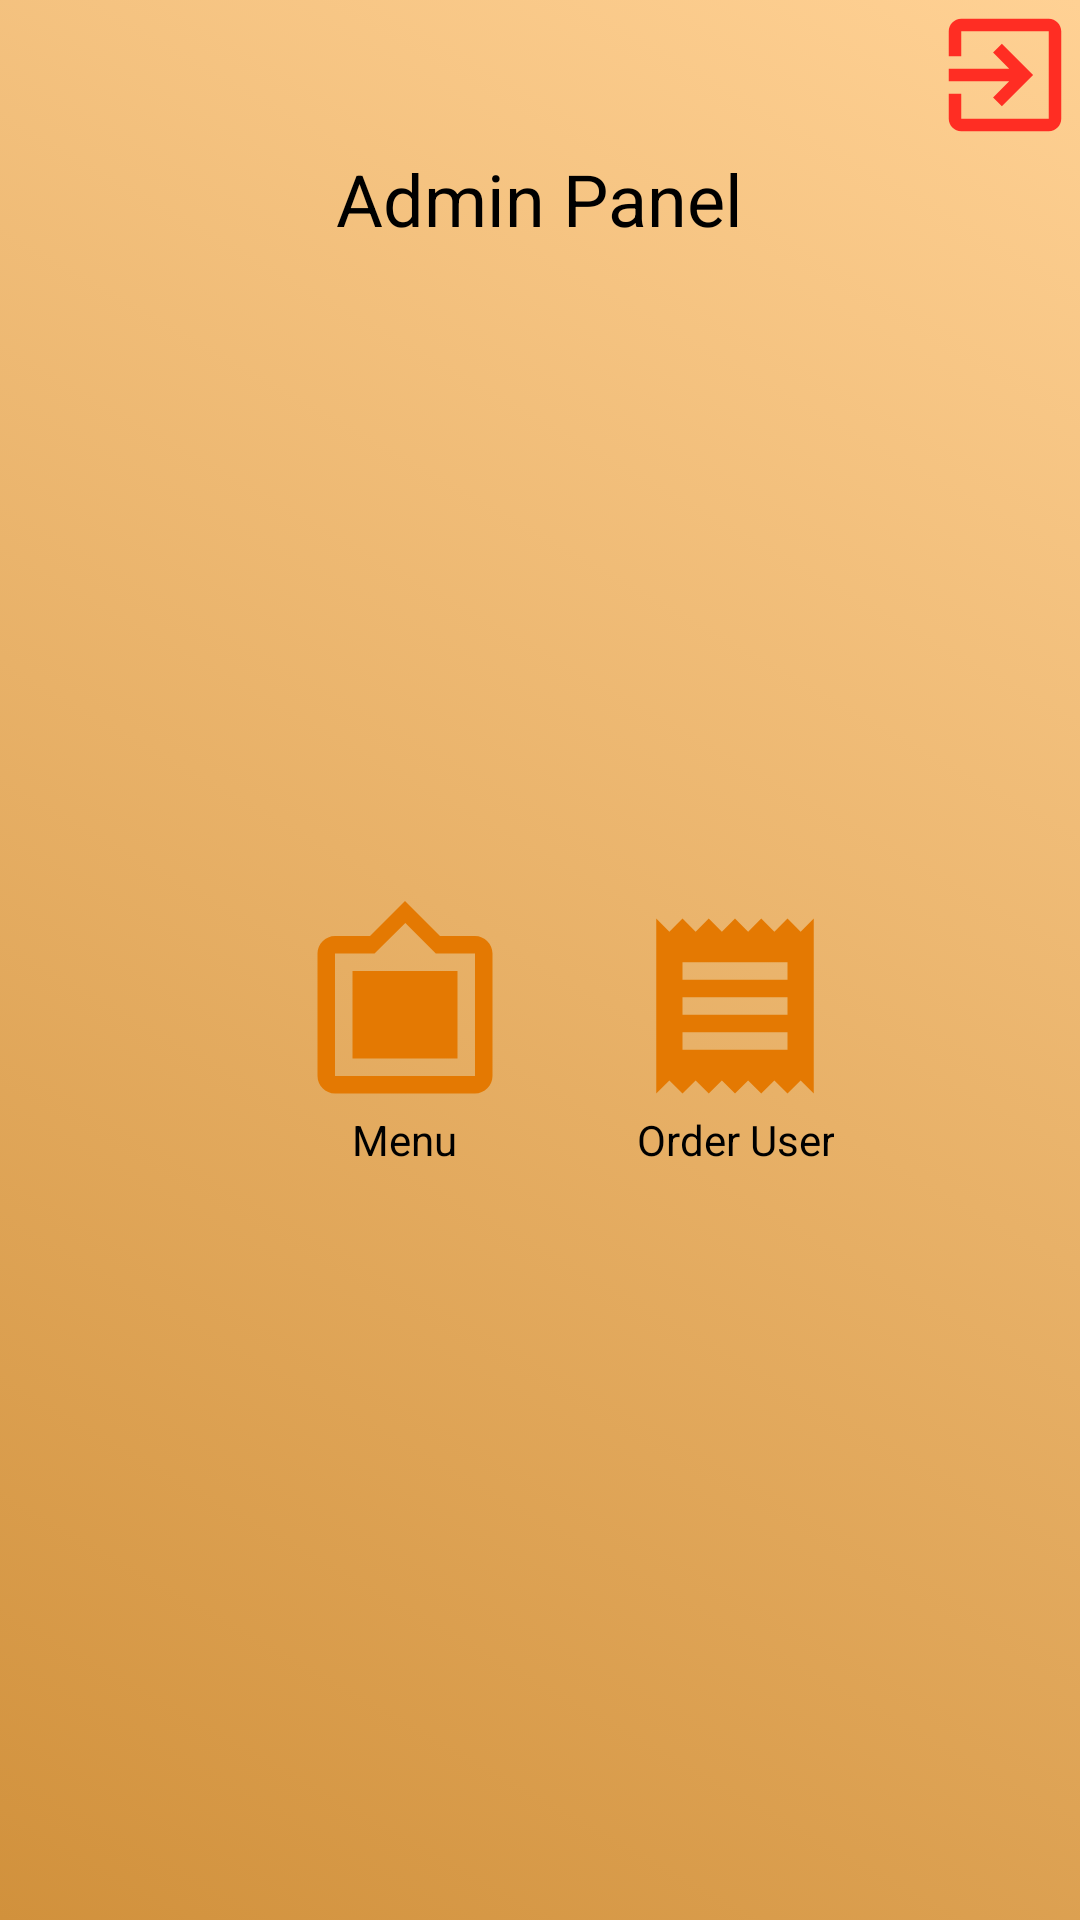

Icons on this 1080px×1920px Android screen, each with the point to tap as (x=x, y=y):
exits: (x=1005, y=75)
history: (x=735, y=1006)
